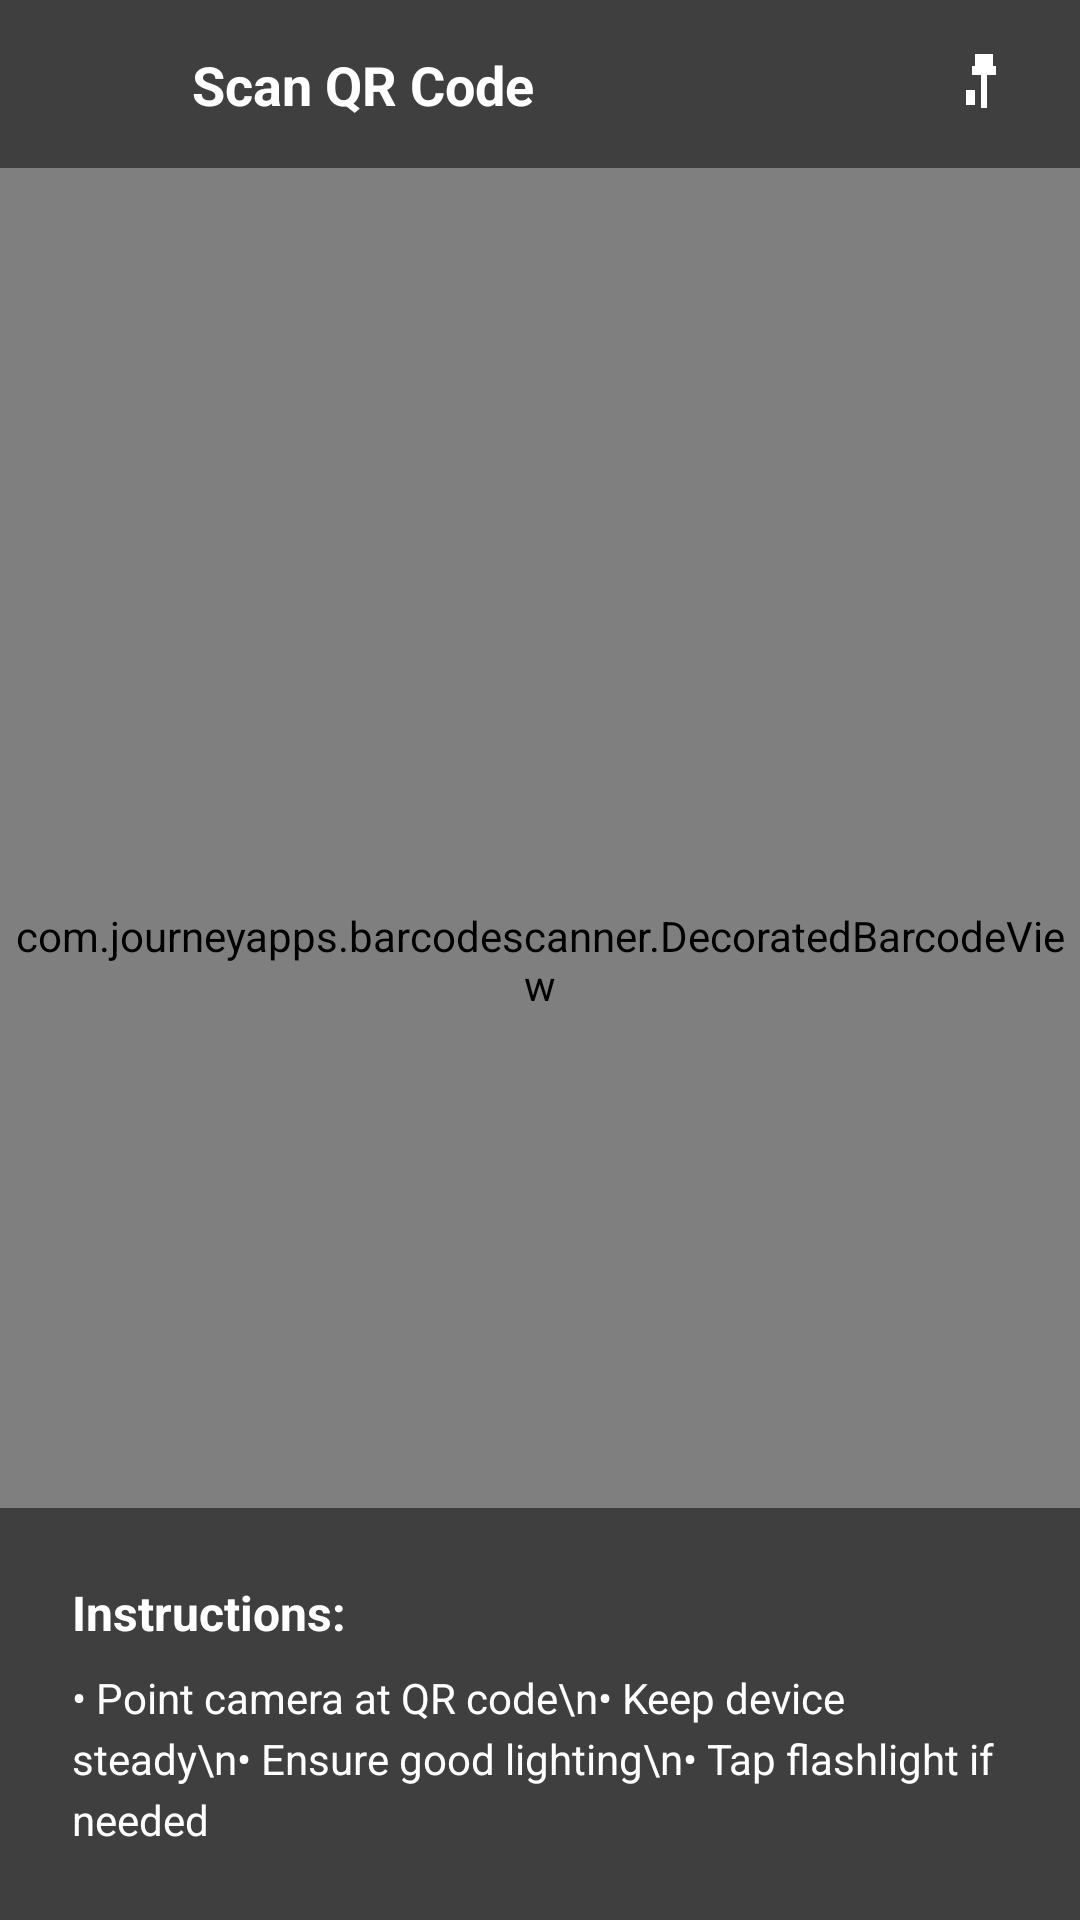

Named icons in this screenshot (1080x1920) and their centers, (x=x, y=y):
Toggle Flash: (x=981, y=81)
